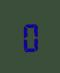zero: (19, 20, 39, 52)
